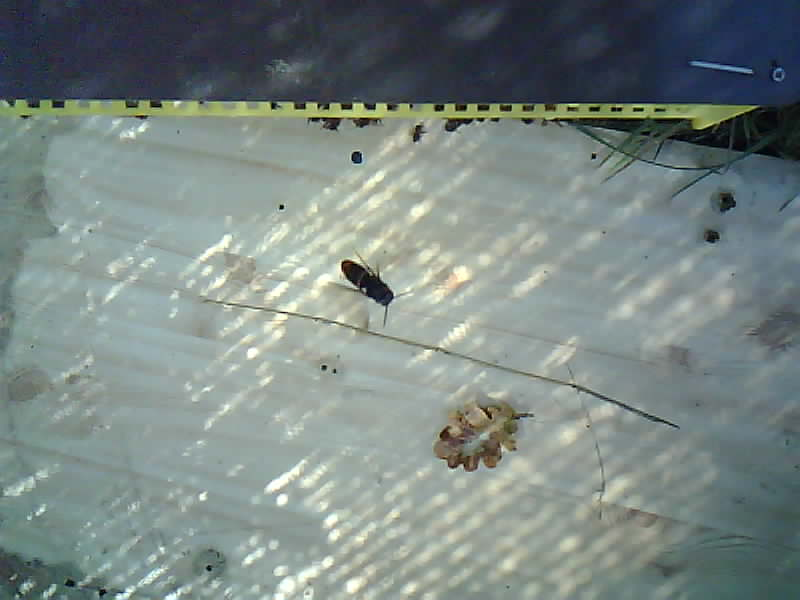hornet: (339, 255, 399, 312)
